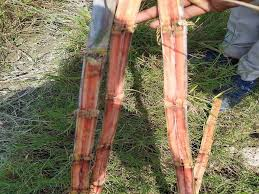Red-Rot: (70, 1, 141, 194), (153, 0, 196, 194), (200, 94, 220, 183)
